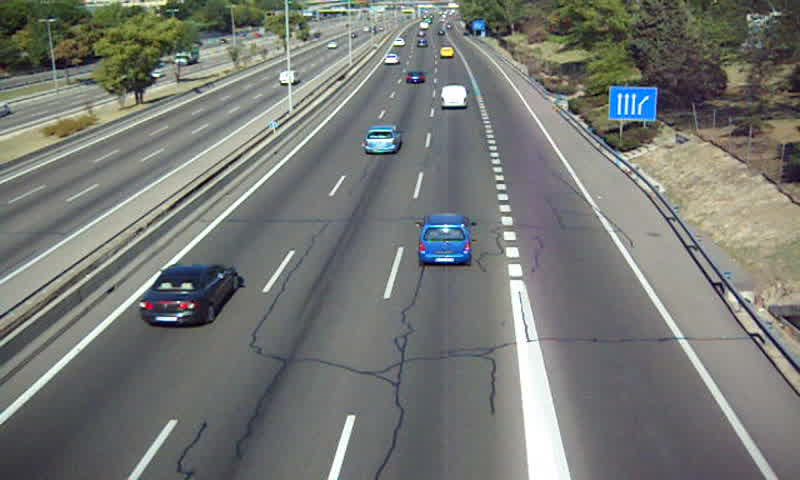car: (139, 263, 238, 326), (419, 215, 470, 265), (363, 126, 403, 156), (404, 70, 425, 84), (382, 54, 399, 68)
van: (439, 85, 468, 107)
